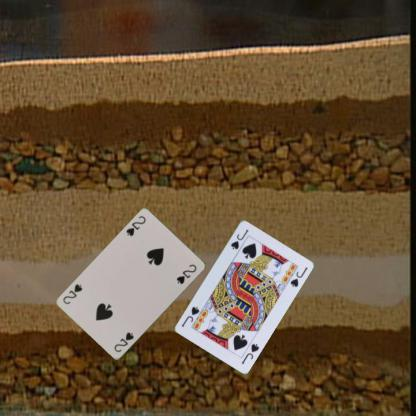2s: (112, 329, 135, 354), (124, 213, 146, 238)
Js: (238, 341, 260, 365), (228, 227, 250, 250)
